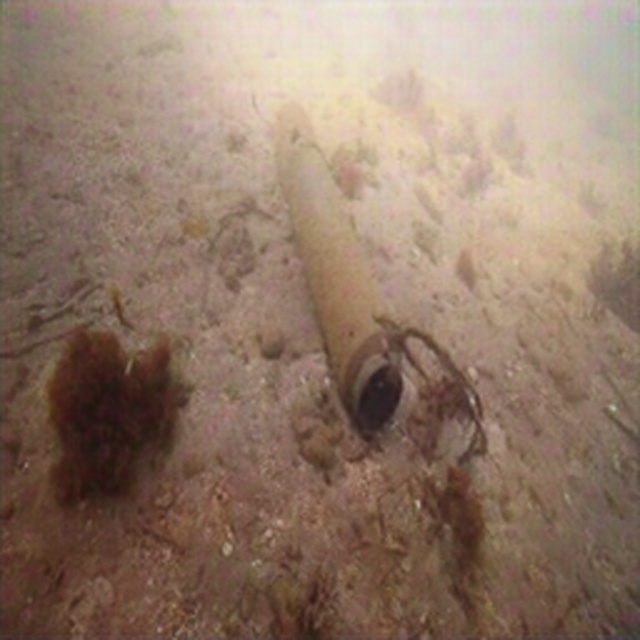mine: (270, 99, 403, 429)
